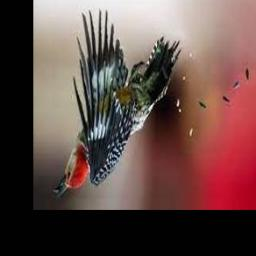Woodpecker: (53, 10, 181, 199)
